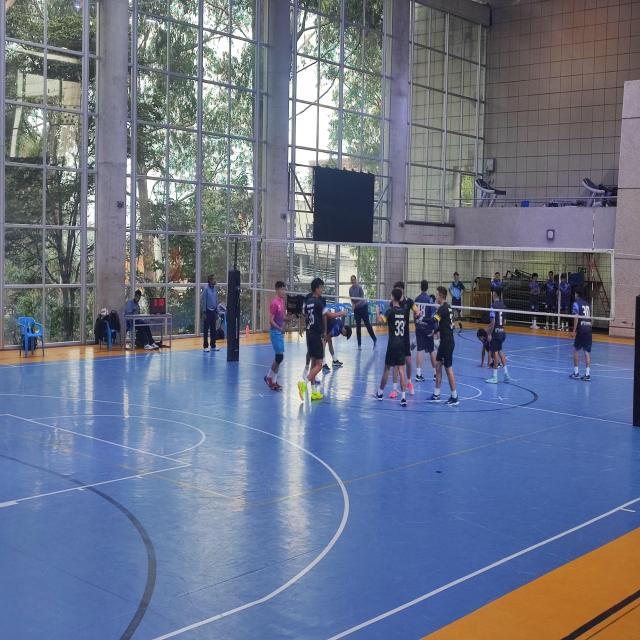volleyball: (100, 308, 108, 318)
